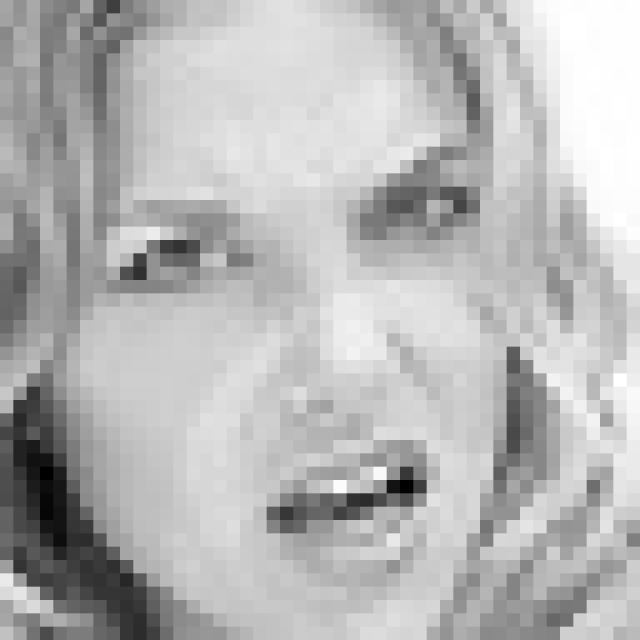disgust: (98, 142, 480, 596)
